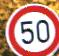Speed Limit -50-: (0, 1, 58, 55)
